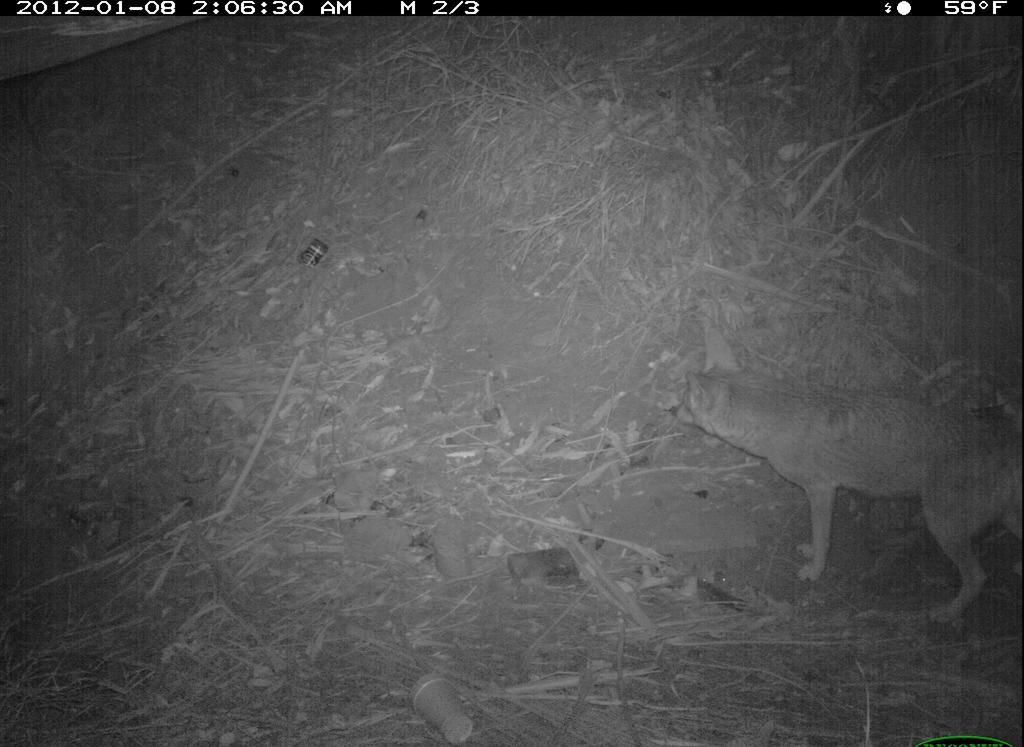coyote: (652, 297, 1021, 638)
